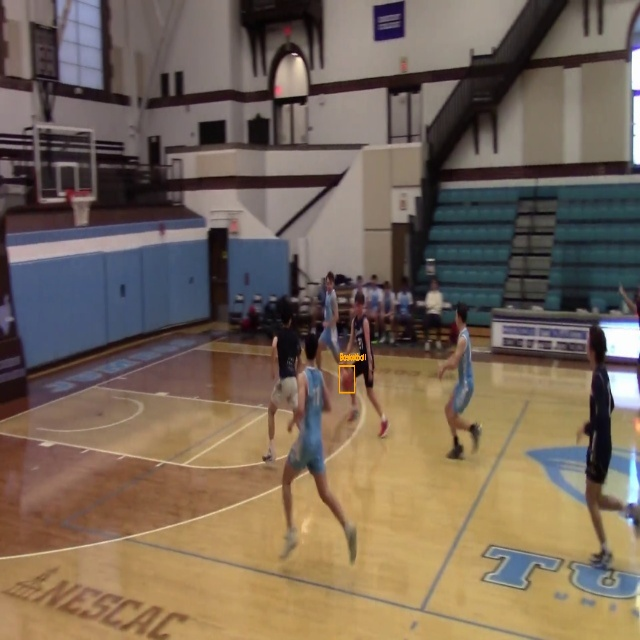Basketball: (339, 366, 354, 392)
